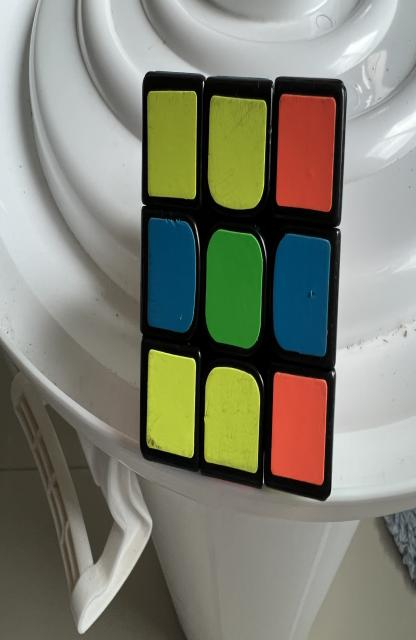Blue: (273, 233, 331, 357), (147, 218, 196, 333)
Green: (206, 228, 263, 348)
Orange: (276, 93, 336, 212), (271, 372, 327, 485)
Yellow: (208, 95, 266, 210), (204, 367, 260, 473), (147, 90, 197, 200), (146, 350, 196, 458)
